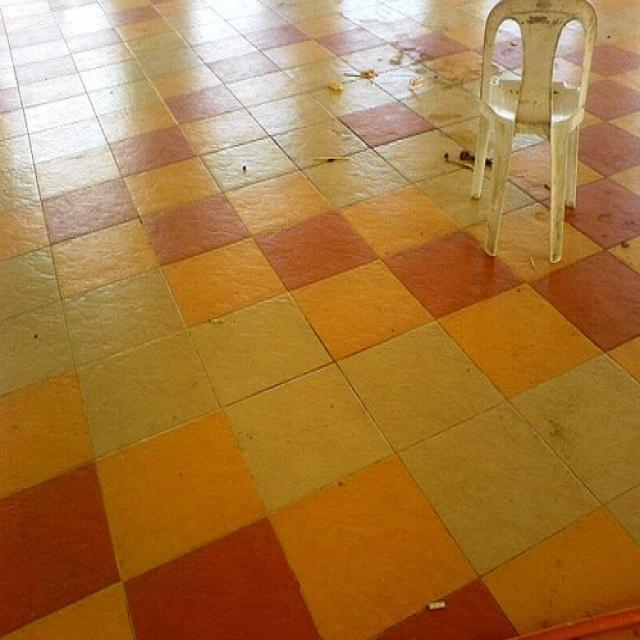chair: (468, 0, 598, 265)
